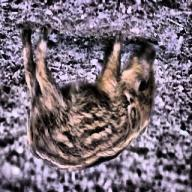boar: (21, 26, 159, 172)
